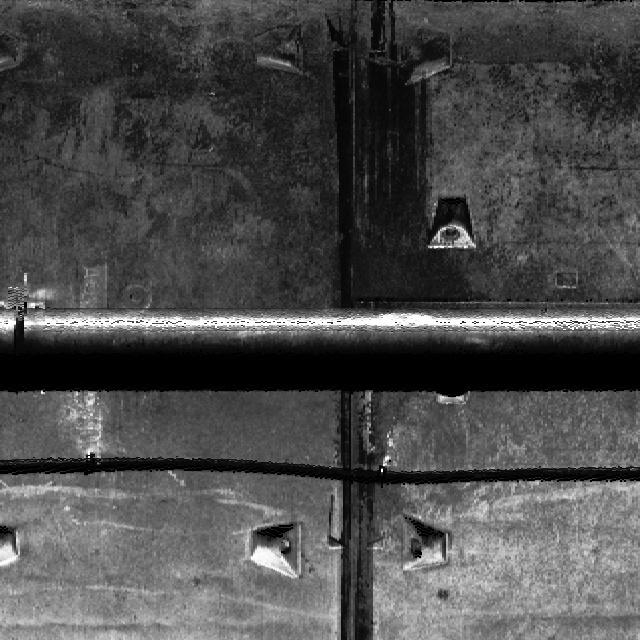leakage: (300, 2, 484, 302), (321, 381, 398, 639)
